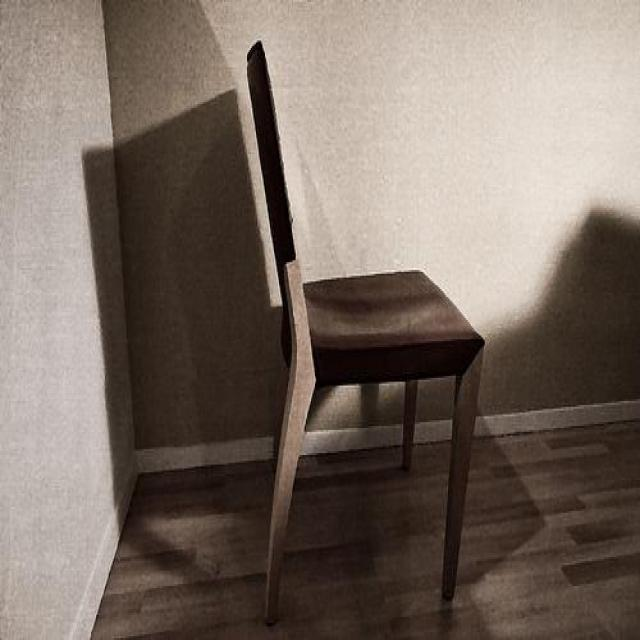chair: (245, 38, 485, 624)
